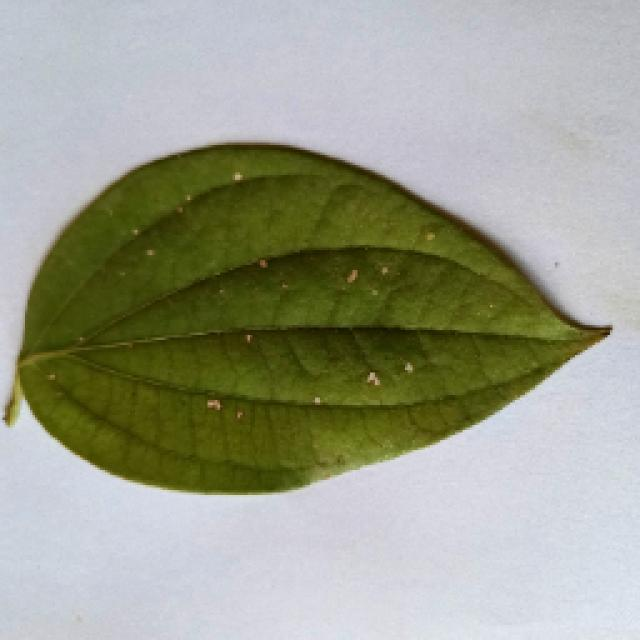pollu-disease: (0, 125, 610, 510)
